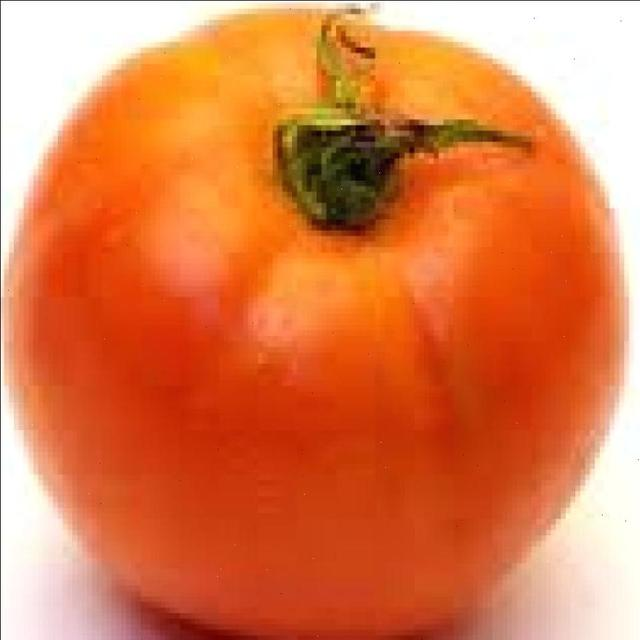Healthy Fruit: (0, 4, 412, 427)
